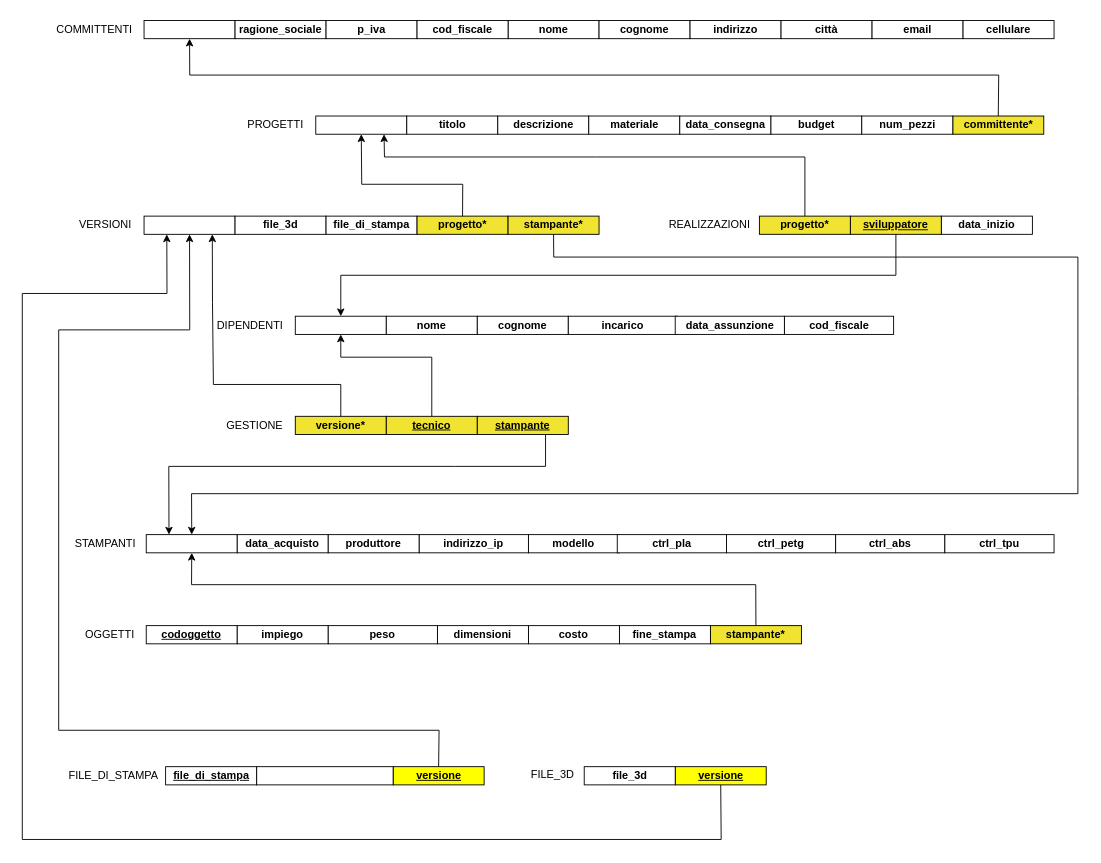
Image size: 1101x863. Some labels were removed from this diagram. Here are the shapes that lost their labels. From the top down, the centre of each, then its label:
point 189,29: codcommittente
point 361,124: codprogetto
point 189,224: codversione
point 340,324: matricola
point 191,543: codstampante
point 324,775: durata_stampa_stimata
